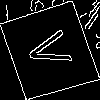V: (25, 25, 82, 72)
